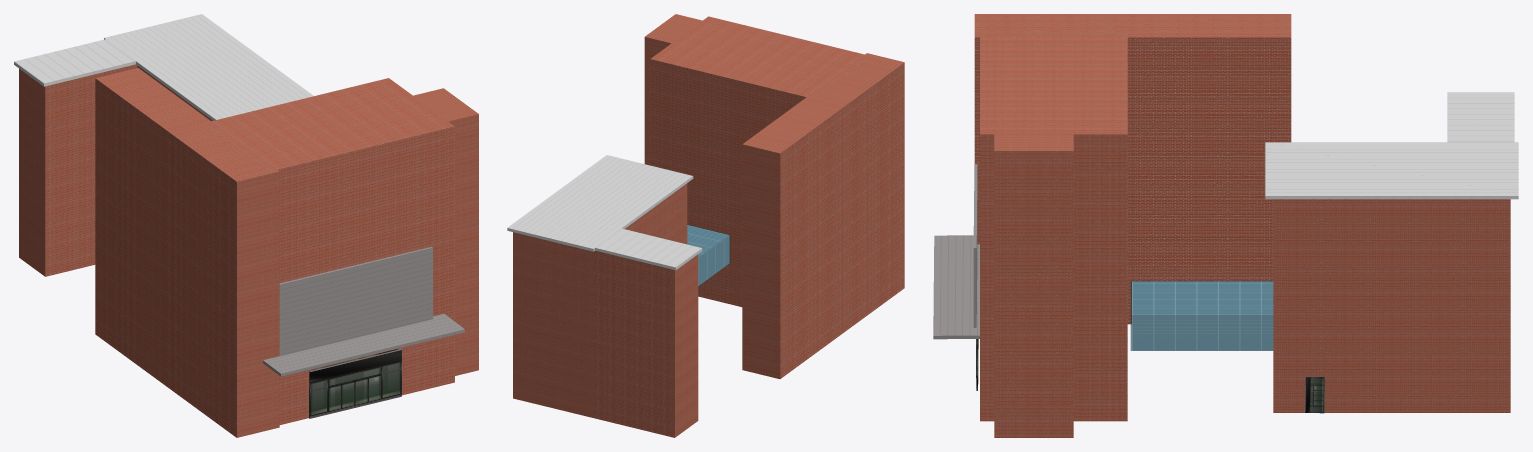
The picture shows the model from 3 angles, left to right: view 1: azimuth 30°, elevation 25°; view 2: azimuth 150°, elevation 25°; view 3: azimuth 270°, elevation 25°; orthographic projection. The views are drawn at different scales.
Parts seen in each view (by area): view 1: MartinBackDepth, MartinMid, LillyRoof (×4), LillyBackExtension, MartinFront, LillyRoofExt; view 2: MartinBackDepth, MartinMid, LillyBackExtension, LillyFront, LillyRoof, LillyRoofExt, MartinFront, SkybridgeWindows, Skybridge; view 3: LillyFront, MartinBackDepth, MartinMid, MartinFront, LillyRoof (×4), SkybridgeWindows, Skybridge, LillyRoofExt.
Boxes of the visible parts, x1,y1,x2,y2 form: MartinBackDepth: [95, 68, 279, 437]; MartinMid: [205, 78, 454, 424]; LillyRoof (×4): [104, 14, 464, 418]; LillyBackExtension: [19, 64, 137, 276]; MartinFront: [413, 88, 478, 375]; LillyRoofExt: [14, 24, 198, 86]; MartinBackDepth: [742, 53, 904, 378]; MartinMid: [650, 16, 869, 306]; LillyBackExtension: [540, 239, 698, 437]; LillyFront: [513, 183, 687, 417]; LillyRoof: [507, 155, 693, 251]; LillyRoofExt: [536, 214, 702, 270]; MartinFront: [644, 14, 702, 165]; SkybridgeWindows: [687, 224, 730, 286]; Skybridge: [687, 225, 729, 285]; LillyFront: [1273, 199, 1510, 412]; MartinBackDepth: [974, 14, 1291, 324]; MartinMid: [980, 34, 1127, 421]; MartinFront: [994, 134, 1073, 437]; LillyRoof (×4): [933, 142, 1518, 413]; SkybridgeWindows: [1130, 281, 1272, 350]; Skybridge: [1132, 281, 1273, 350]; LillyRoofExt: [1447, 92, 1514, 142].
Size of what is drawn, in the model's own units: 82 by 80 by 148.
8 materials, 8 textured.
